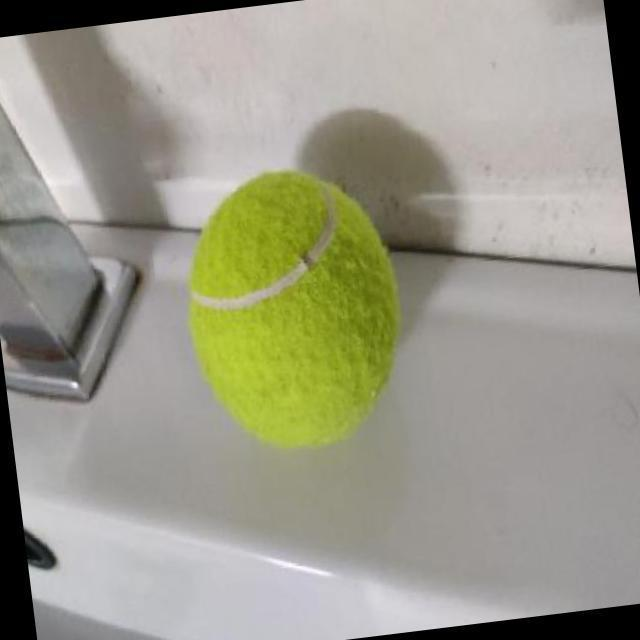-: (162, 145, 425, 478)
